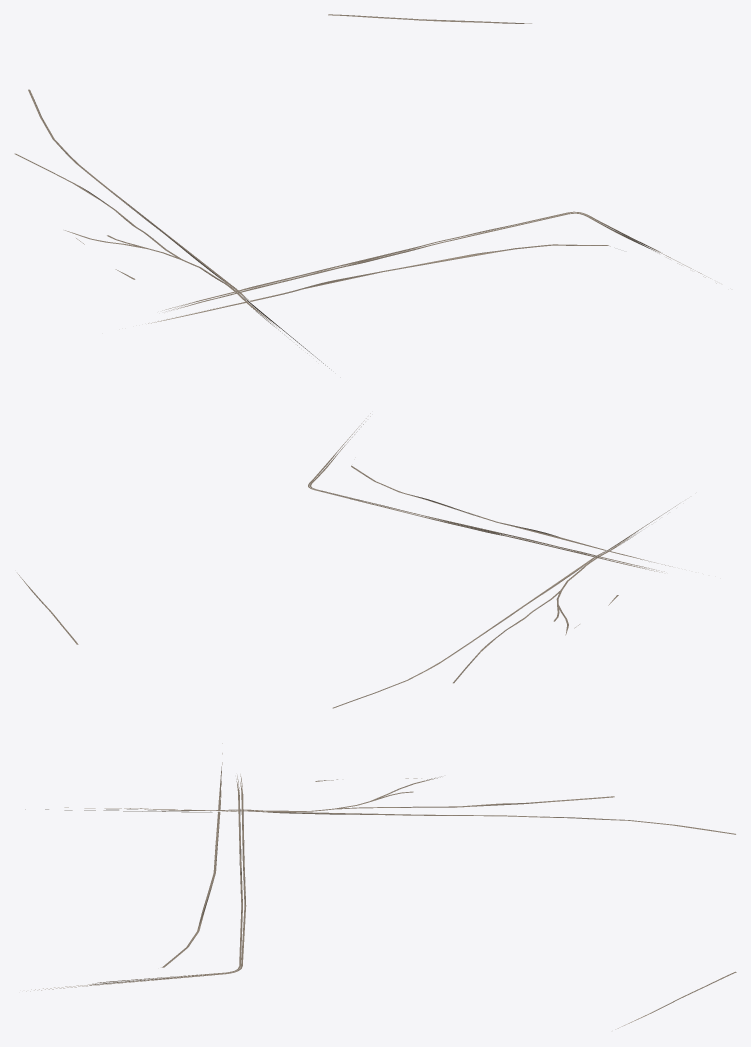
Rendered from rail_1_3.glb.
The picture shows the model from 3 angles, top to bottom: view 1: azimuth 30°, elevation 25°; view 2: azimuth 150°, elevation 25°; view 3: azimuth 270°, elevation 25°; orthographic projection. The views are drawn at different scales.
Parts seen in each view (by area): view 1: geometry_0; view 2: geometry_0; view 3: geometry_0.
Boxes of the visible parts, <box> form: geometry_0: <box>14,14,716,368</box>; geometry_0: <box>17,413,679,708</box>; geometry_0: <box>25,743,736,1029</box>.
Bounding box in the file's own units: 1193 × 22.11 × 1212.
